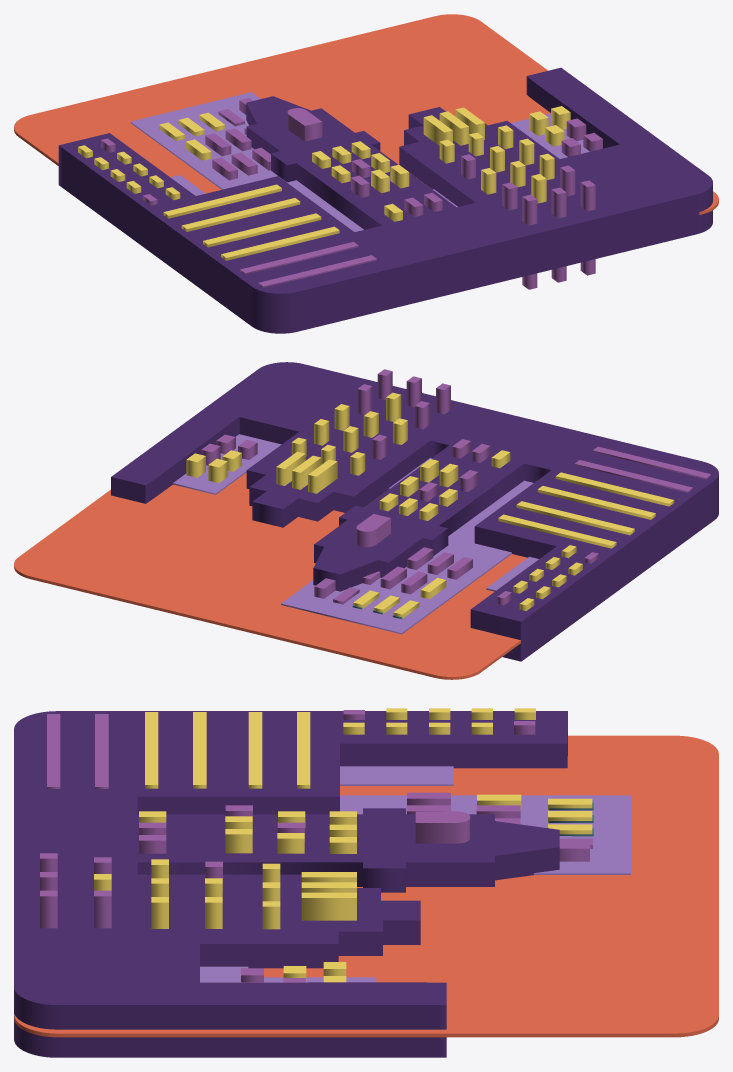
File: emoji_u1f306.glb
The picture shows the model from 3 angles, top to bottom: view 1: azimuth 30°, elevation 25°; view 2: azimuth 150°, elevation 25°; view 3: azimuth 270°, elevation 25°; orthographic projection. The views are drawn at different scales.
Visible parts, largest first — view 1: emoji_u1f306; view 2: emoji_u1f306; view 3: emoji_u1f306.
Part boxes in pixels (bbox=[...]): emoji_u1f306: bbox=[14, 14, 718, 333]; emoji_u1f306: bbox=[14, 362, 718, 679]; emoji_u1f306: bbox=[14, 708, 718, 1057].
Bounding box in the file's own units: 0.034 × 0.0062 × 0.034.
